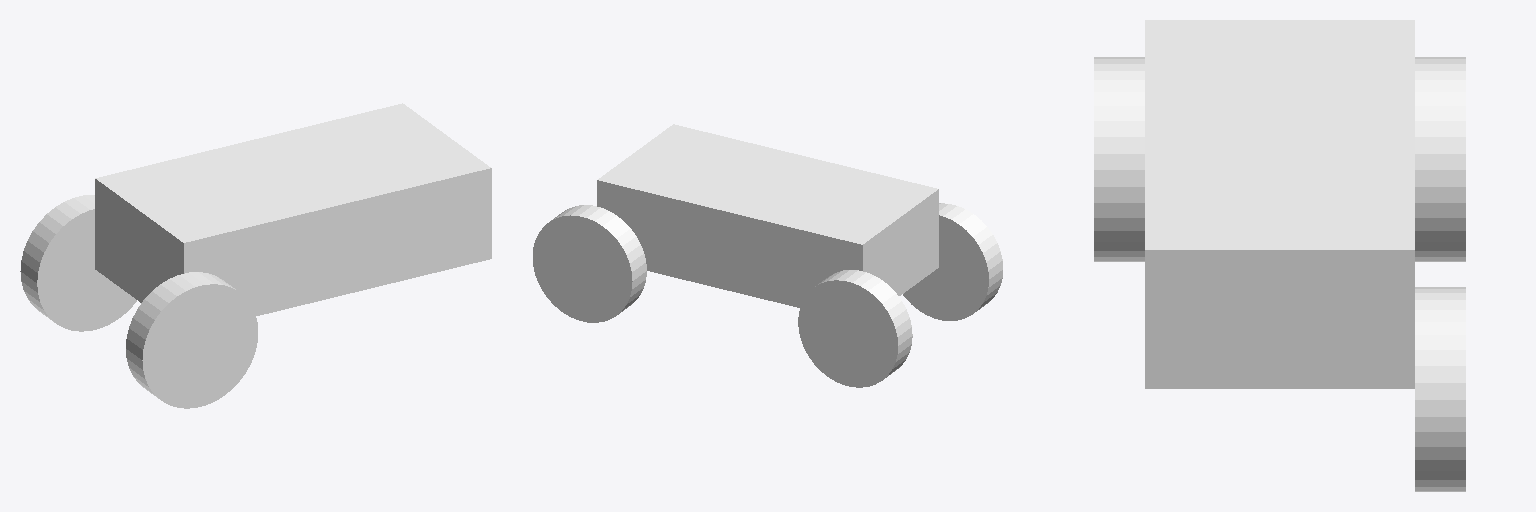
robot.urdf — 装配体1.SLDASM:
<?xml version="1.0" encoding="utf-8"?>
<!-- This URDF was automatically created by SolidWorks to URDF Exporter! Originally created by [author] ([email redacted]) 
     Commit Version: 1.6.0-4-g7f85cfe  Build Version: 1.6.7995.38578
     For more information, please see http://wiki.ros.org/sw_urdf_exporter -->
<robot
  name="装配体1.SLDASM">
  <link
    name="base_link">
    <inertial>
      <origin
        xyz="0.0517803475487482 0.0145762377834093 0.0364442833495505"
        rpy="0 0 0" />
      <mass
        value="0.168433577741048" />
      <inertia
        ixx="5.1894392144424E-05"
        ixy="-2.30669263615489E-21"
        ixz="1.48048205054515E-20"
        iyy="0.00019743717510779"
        iyz="4.45258112332264E-37"
        izz="0.000170807819624523" />
    </inertial>
    <visual>
      <origin
        xyz="0 0 0"
        rpy="0 0 0" />
      <geometry>
        <mesh
          filename="package://装配体1.SLDASM/meshes/base_link.STL" />
      </geometry>
      <material
        name="">
        <color
          rgba="1 1 1 1" />
      </material>
    </visual>
    <collision>
      <origin
        xyz="0 0 0"
        rpy="0 0 0" />
      <geometry>
        <mesh
          filename="package://装配体1.SLDASM/meshes/base_link.STL" />
      </geometry>
    </collision>
  </link>
  <link
    name="wheel1">
    <inertial>
      <origin
        xyz="-1.0842E-18 -5.421E-20 0.005"
        rpy="0 0 0" />
      <mass
        value="0.012566" />
      <inertia
        ixx="1.3614E-06"
        ixy="7.0096E-54"
        ixz="-1.7647E-23"
        iyy="1.3614E-06"
        iyz="-2.4284E-39"
        izz="2.5133E-06" />
    </inertial>
    <visual>
      <origin
        xyz="0 0 0"
        rpy="0 0 0" />
      <geometry>
        <mesh
          filename="package://装配体1.SLDASM/meshes/wheel1.STL" />
      </geometry>
      <material
        name="">
        <color
          rgba="1 1 1 1" />
      </material>
    </visual>
    <collision>
      <origin
        xyz="0 0 0"
        rpy="0 0 0" />
      <geometry>
        <mesh
          filename="package://装配体1.SLDASM/meshes/wheel1.STL" />
      </geometry>
    </collision>
  </link>
  <joint
    name="joint1"
    type="continuous">
    <origin
      xyz="-0.0012978 -0.062889 -0.00042376"
      rpy="1.5708 0 0" />
    <parent
      link="base_link" />
    <child
      link="wheel1" />
    <axis
      xyz="0 0 1" />
  </joint>
  <link
    name="wheel2">
    <inertial>
      <origin
        xyz="-1.0842E-18 -1.0842E-19 0.005"
        rpy="0 0 0" />
      <mass
        value="0.012566" />
      <inertia
        ixx="1.3614E-06"
        ixy="0"
        ixz="2.2959E-39"
        iyy="1.3614E-06"
        iyz="-2.4284E-39"
        izz="2.5133E-06" />
    </inertial>
    <visual>
      <origin
        xyz="0 0 0"
        rpy="0 0 0" />
      <geometry>
        <mesh
          filename="package://装配体1.SLDASM/meshes/wheel2.STL" />
      </geometry>
      <material
        name="">
        <color
          rgba="1 1 1 1" />
      </material>
    </visual>
    <collision>
      <origin
        xyz="0 0 0"
        rpy="0 0 0" />
      <geometry>
        <mesh
          filename="package://装配体1.SLDASM/meshes/wheel2.STL" />
      </geometry>
    </collision>
  </link>
  <joint
    name="joint2"
    type="continuous">
    <origin
      xyz="-0.0012978 0 -0.00042376"
      rpy="1.5708 0 0" />
    <parent
      link="base_link" />
    <child
      link="wheel2" />
    <axis
      xyz="0 0 1" />
  </joint>
  <link
    name="wheel3">
    <inertial>
      <origin
        xyz="0 0 0.005"
        rpy="0 0 0" />
      <mass
        value="0.012566" />
      <inertia
        ixx="1.3614E-06"
        ixy="7.0096E-54"
        ixz="-1.7647E-23"
        iyy="1.3614E-06"
        iyz="-2.4284E-39"
        izz="2.5133E-06" />
    </inertial>
    <visual>
      <origin
        xyz="0 0 0"
        rpy="0 0 0" />
      <geometry>
        <mesh
          filename="package://装配体1.SLDASM/meshes/wheel3.STL" />
      </geometry>
      <material
        name="">
        <color
          rgba="1 1 1 1" />
      </material>
    </visual>
    <collision>
      <origin
        xyz="0 0 0"
        rpy="0 0 0" />
      <geometry>
        <mesh
          filename="package://装配体1.SLDASM/meshes/wheel3.STL" />
      </geometry>
    </collision>
  </link>
  <joint
    name="joint3"
    type="continuous">
    <origin
      xyz="0.10486 -0.062889 -0.00042376"
      rpy="1.5708 0 0" />
    <parent
      link="base_link" />
    <child
      link="wheel3" />
    <axis
      xyz="0 0 1" />
  </joint>
  <link
    name="wheel4">
    <inertial>
      <origin
        xyz="-1.3878E-17 -5.421E-20 0.005"
        rpy="0 0 0" />
      <mass
        value="0.012566" />
      <inertia
        ixx="1.3614E-06"
        ixy="0"
        ixz="2.2959E-39"
        iyy="1.3614E-06"
        iyz="-2.4284E-39"
        izz="2.5133E-06" />
    </inertial>
    <visual>
      <origin
        xyz="0 0 0"
        rpy="0 0 0" />
      <geometry>
        <mesh
          filename="package://装配体1.SLDASM/meshes/wheel4.STL" />
      </geometry>
      <material
        name="">
        <color
          rgba="1 1 1 1" />
      </material>
    </visual>
    <collision>
      <origin
        xyz="0 0 0"
        rpy="0 0 0" />
      <geometry>
        <mesh
          filename="package://装配体1.SLDASM/meshes/wheel4.STL" />
      </geometry>
    </collision>
  </link>
  <joint
    name="joint4"
    type="continuous">
    <origin
      xyz="0.10486 0 -0.00042376"
      rpy="1.5708 0 0" />
    <parent
      link="base_link" />
    <child
      link="wheel4" />
    <axis
      xyz="0 0 1" />
  </joint>
</robot>

--- Facts derived from the render (not from the file) ---
The picture shows the robot from 3 angles, left to right: view 1: azimuth 30°, elevation 25°; view 2: azimuth 150°, elevation 25°; view 3: azimuth 270°, elevation 25°; orthographic projection.
Robot: 装配体1.SLDASM — 5 links, 4 joints (4 continuous); root link base_link; default pose: all joints at 0.
Links seen in each view (by area): view 1: base_link, wheel1, wheel2; view 2: base_link, wheel4, wheel2, wheel1; view 3: base_link, wheel1, wheel2, wheel4.
Boxes of the visible links, bbox=[...] form: base_link: bbox=[95, 103, 491, 315]; wheel1: bbox=[126, 272, 257, 408]; wheel2: bbox=[20, 195, 136, 331]; base_link: bbox=[597, 124, 938, 307]; wheel4: bbox=[533, 205, 646, 322]; wheel2: bbox=[798, 270, 912, 387]; wheel1: bbox=[903, 203, 1002, 320]; base_link: bbox=[1145, 20, 1414, 388]; wheel1: bbox=[1094, 57, 1144, 261]; wheel2: bbox=[1415, 57, 1465, 261]; wheel4: bbox=[1415, 287, 1465, 491].
Size in the robot's own frame: 0.1462 by 0.0729 by 0.0499 metres.
4 mesh visuals loaded from 5 distinct referenced files (4 binary STL); not drawn: 1 (reference not matched to a file when rendering).
